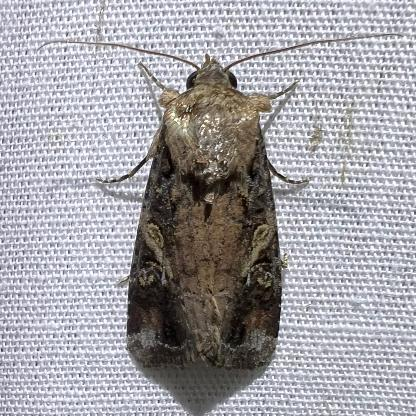Fall Armyworm Moth: (35, 30, 407, 376)
